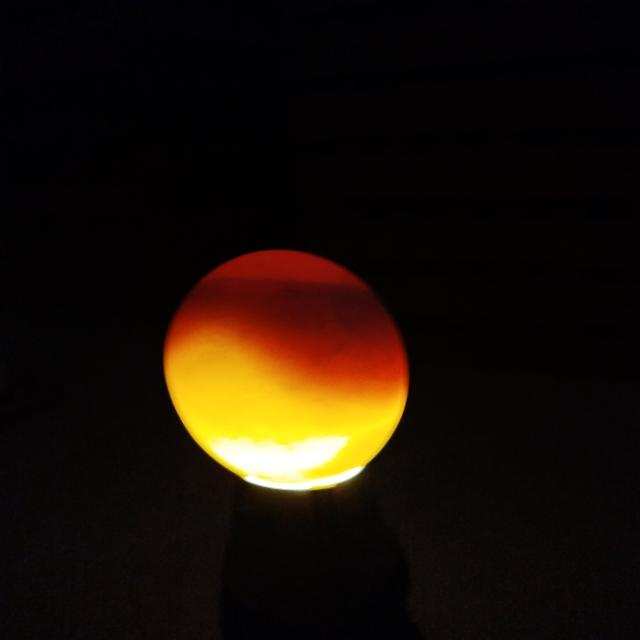Area Infectada: (186, 277, 383, 333)
